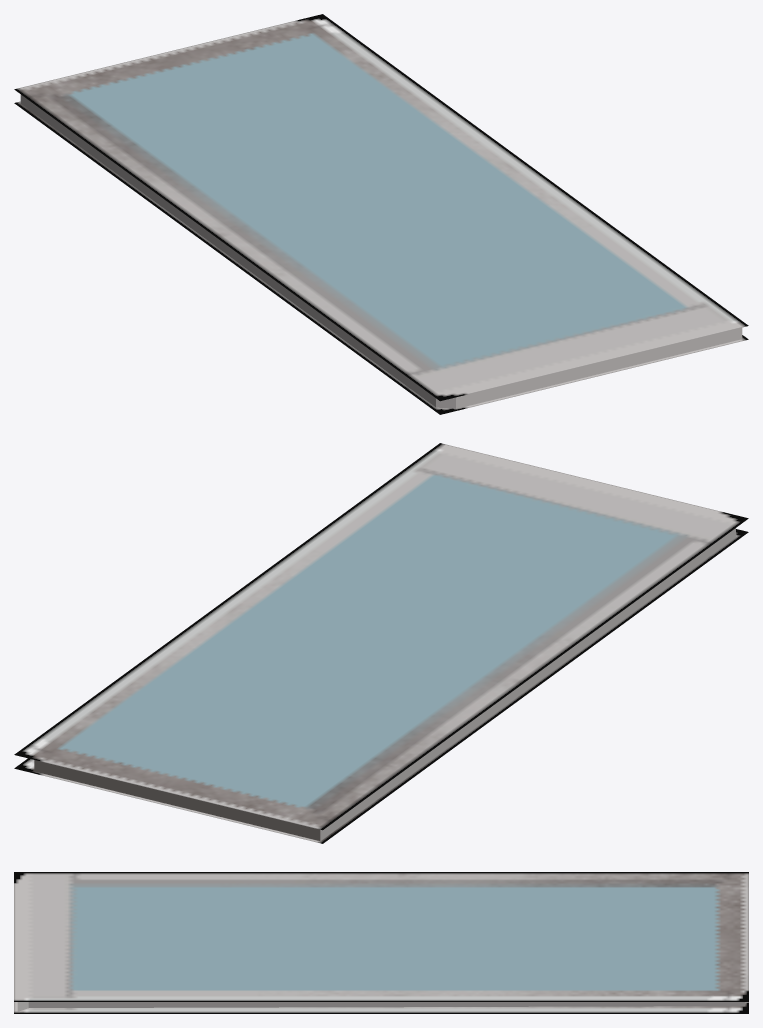
File: pz_native_fixtures_doors_01_113_frame.obj
3 renders of one model, top to bottom at view 1: azimuth 30°, elevation 25°; view 2: azimuth 150°, elevation 25°; view 3: azimuth 270°, elevation 25°, orthographic. The views are drawn at different scales.
Visible parts, largest first — view 1: pz_native_fixtures_doors_01_113_frame; view 2: pz_native_fixtures_doors_01_113_frame; view 3: pz_native_fixtures_doors_01_113_frame.
Part boxes in pixels (x1=…): pz_native_fixtures_doors_01_113_frame: x1=14, y1=14, x2=748, y2=414; pz_native_fixtures_doors_01_113_frame: x1=14, y1=443, x2=748, y2=843; pz_native_fixtures_doors_01_113_frame: x1=14, y1=872, x2=748, y2=1013.
Size of the model in its own units: 1.06 by 0.045 by 2.54.
1 material, 1 textured.
